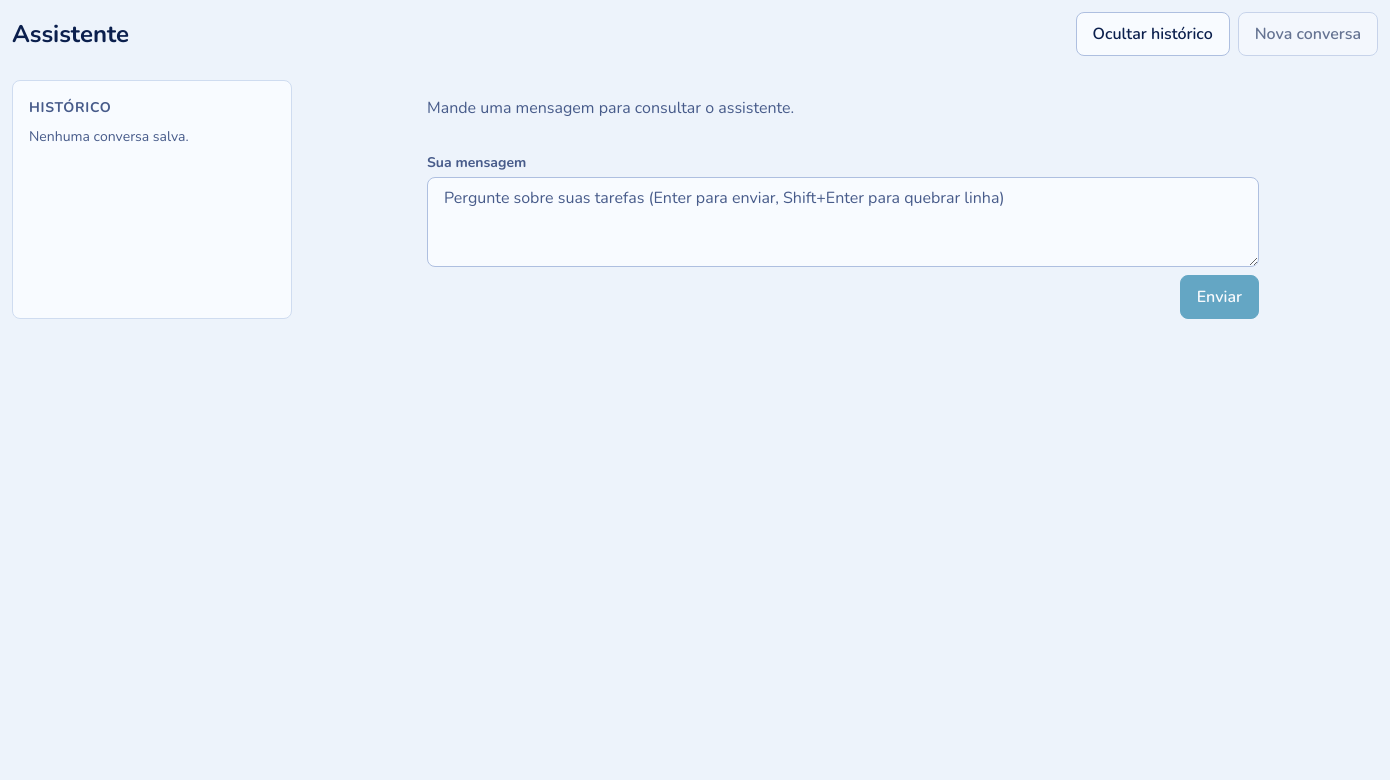
Test: AssistantPage › reutiliza o conversationId devolvido na mensagem seguinte
Type "tudo bem?" into the text box labelled "Sua mensagem" at (843,222), box [427,177,1259,267]
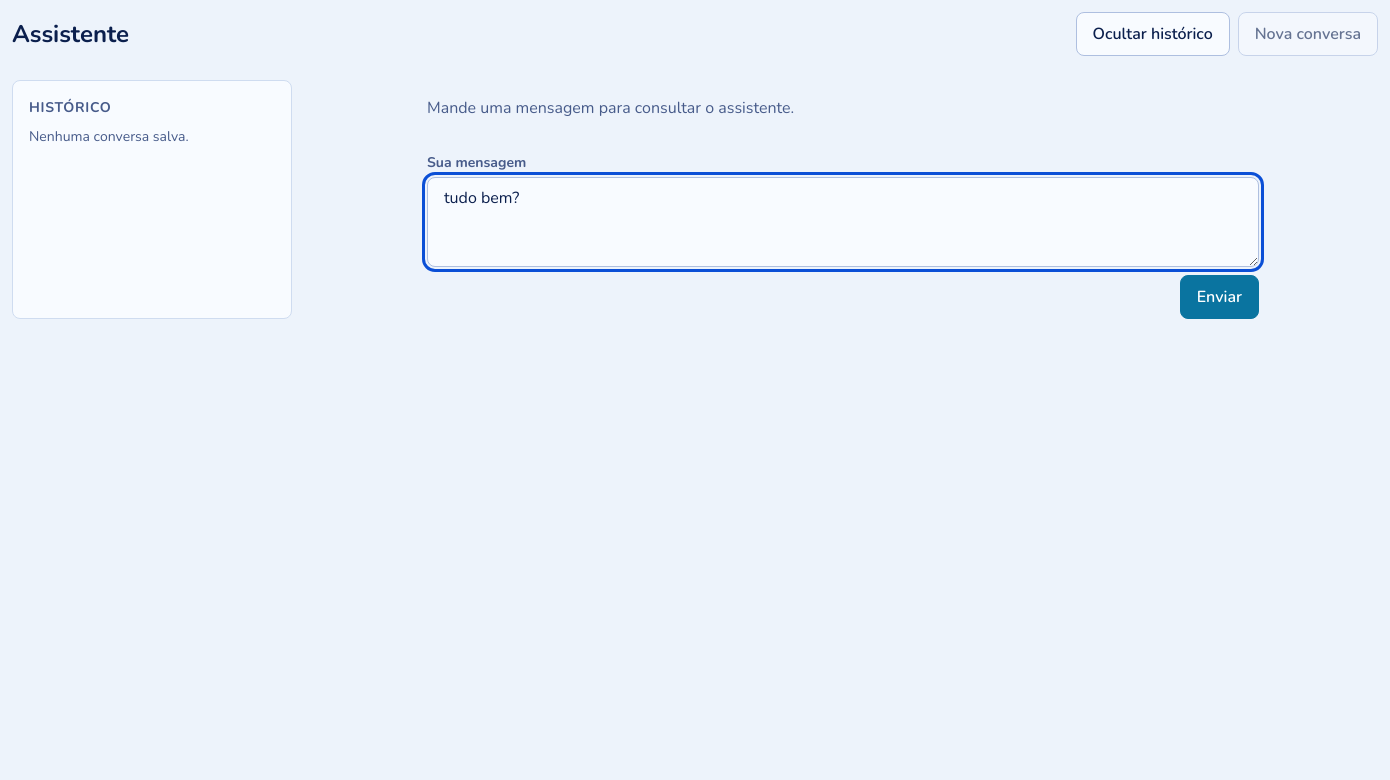
Click the button "Enviar" at (1219,297), box [1180,275,1259,319]
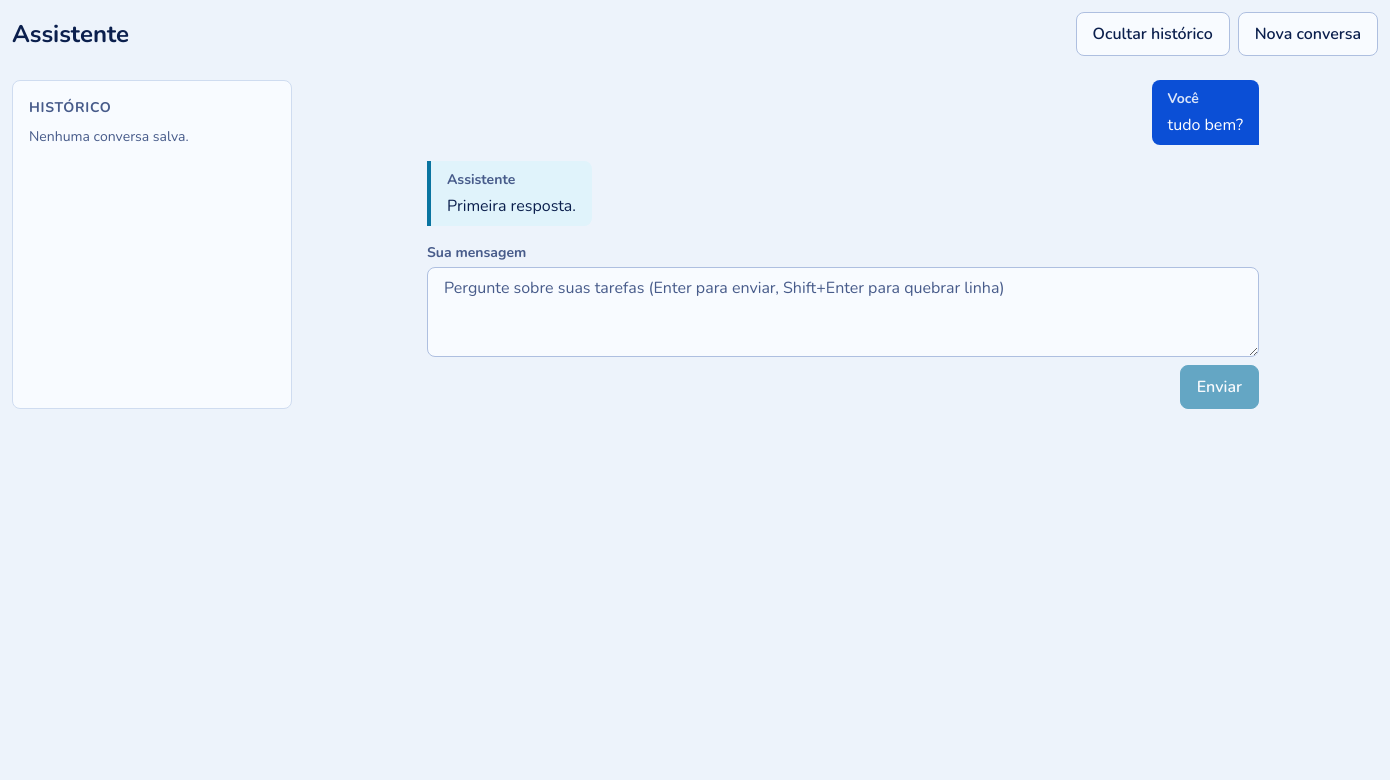
expect the text "Primeira resposta." is shown: met, box [447,194,576,218]
Type "e agora?" into the text box labelled "Sua mensagem" at (843,312), box [427,267,1259,357]
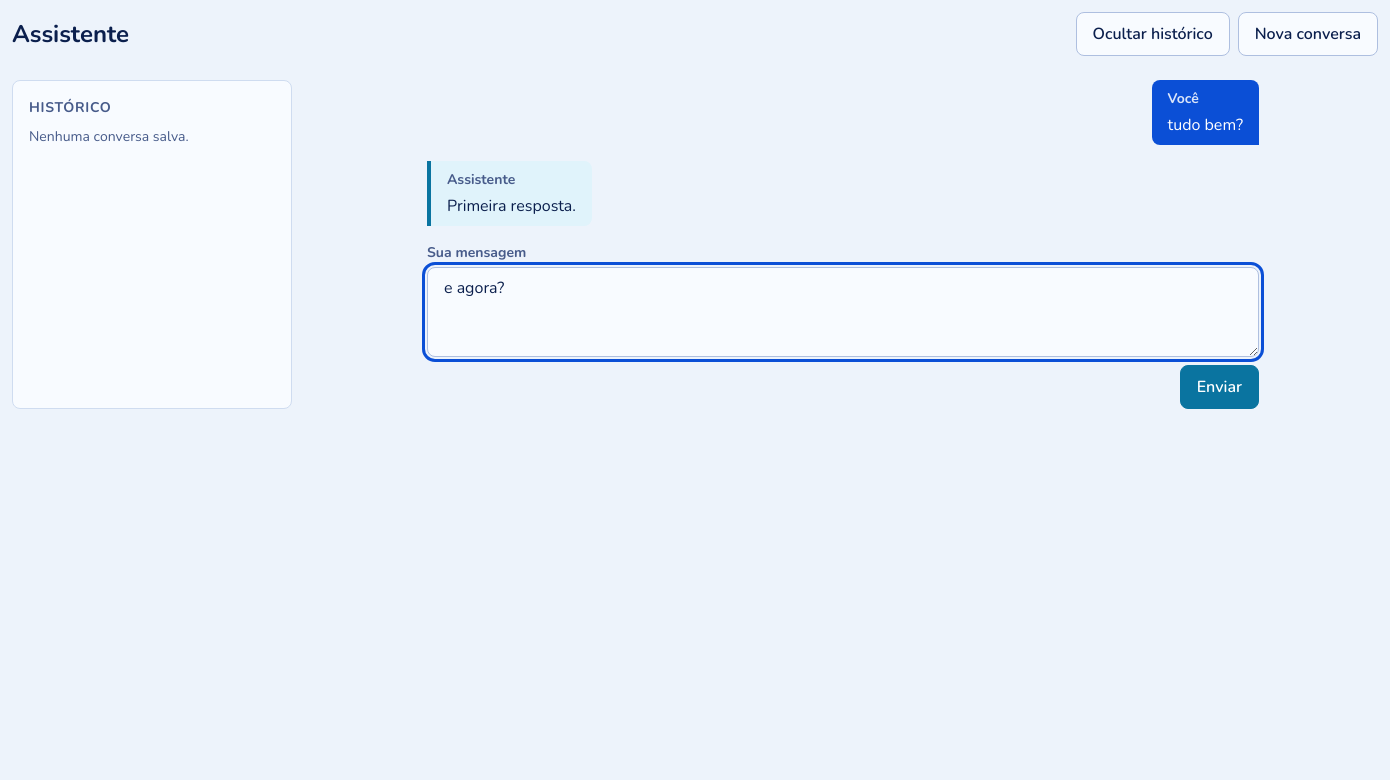
Click the button "Enviar" at (1219,387), box [1180,365,1259,409]
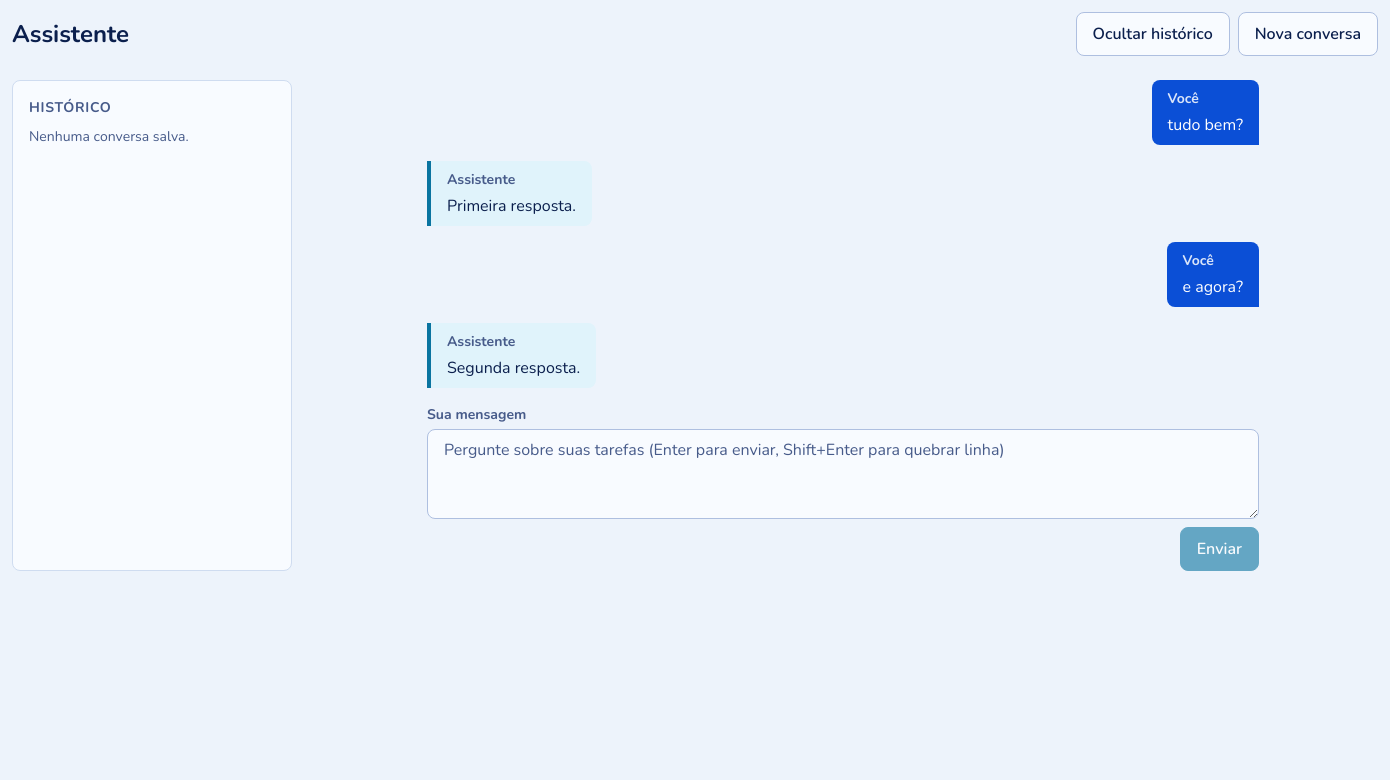
expect the text "tudo bem?" is shown: met, box [1168,113,1243,137]
expect the text "Primeira resposta." is shown: met, box [447,194,576,218]
expect the text "e agora?" is shown: met, box [1183,275,1243,299]
